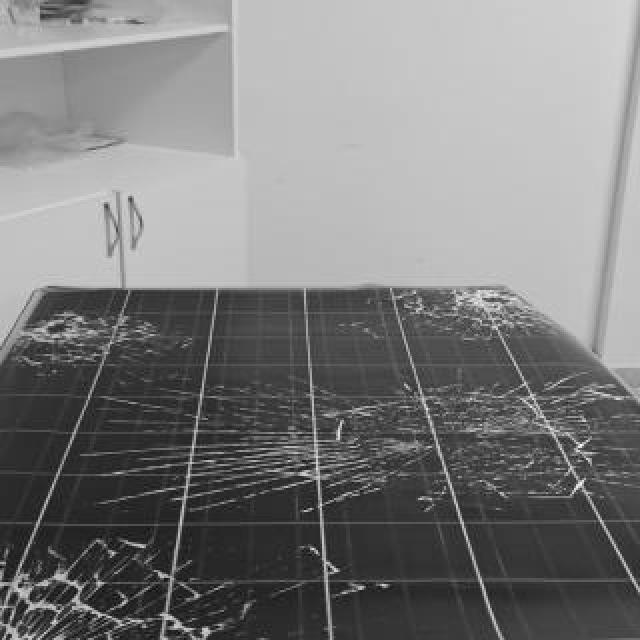Physical-damage: (199, 387, 630, 515), (0, 528, 221, 640), (5, 311, 165, 367), (297, 547, 391, 605), (425, 286, 525, 337)
